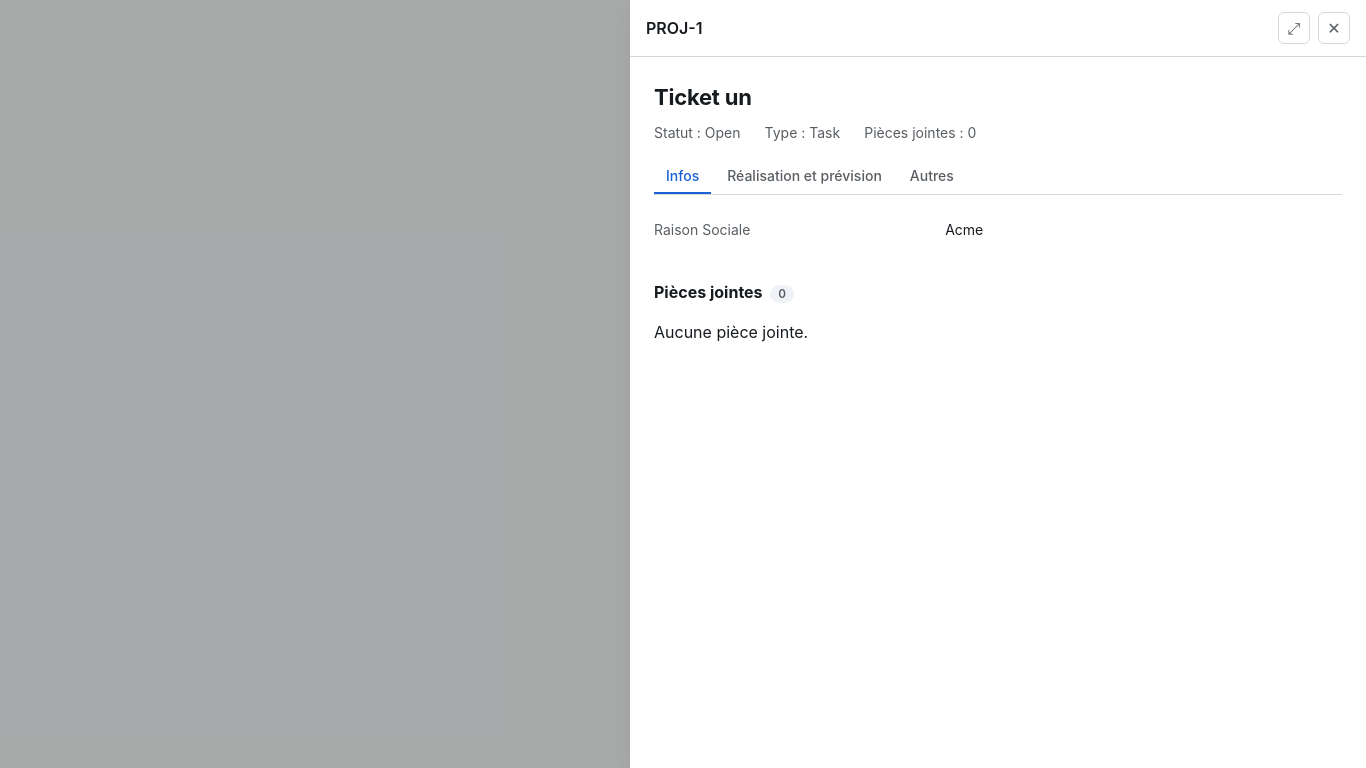
Test case: IssueDetailDrawer — "Autres" tab visibility by role › shows the "Autres" tab with unmatched fields for the ADMIN role
expect the text "Raison Sociale" is shown: met, box left=654, top=221, right=750, bottom=238
Click the button "Autres" at (932, 176), box left=898, top=159, right=966, bottom=194
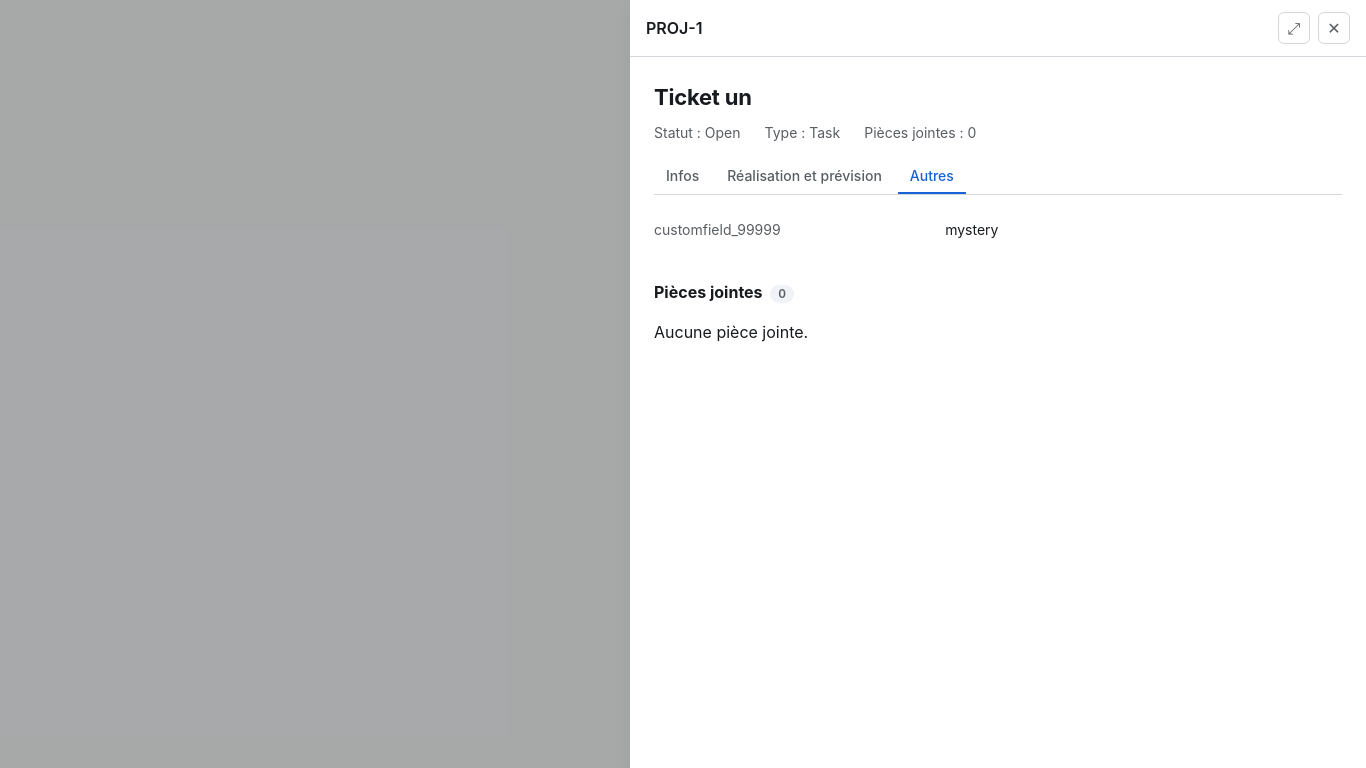
expect the text "customfield_99999" is shown: met, box left=654, top=221, right=781, bottom=238
